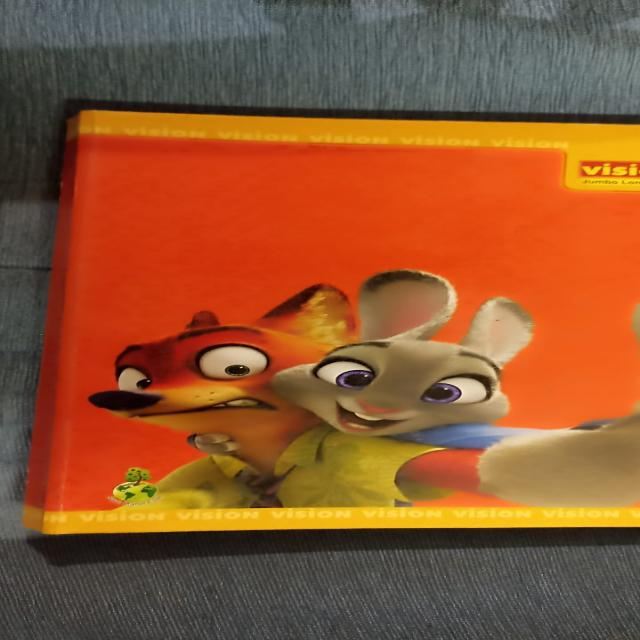book: (42, 103, 640, 536)
